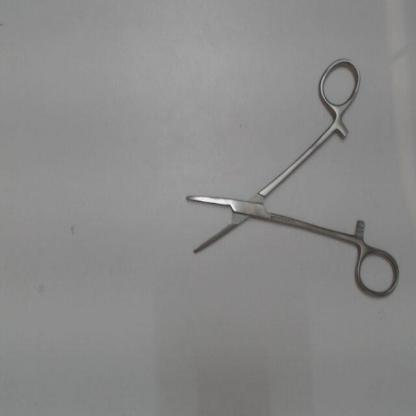Mayo Needle Holder: (179, 52, 404, 304)
